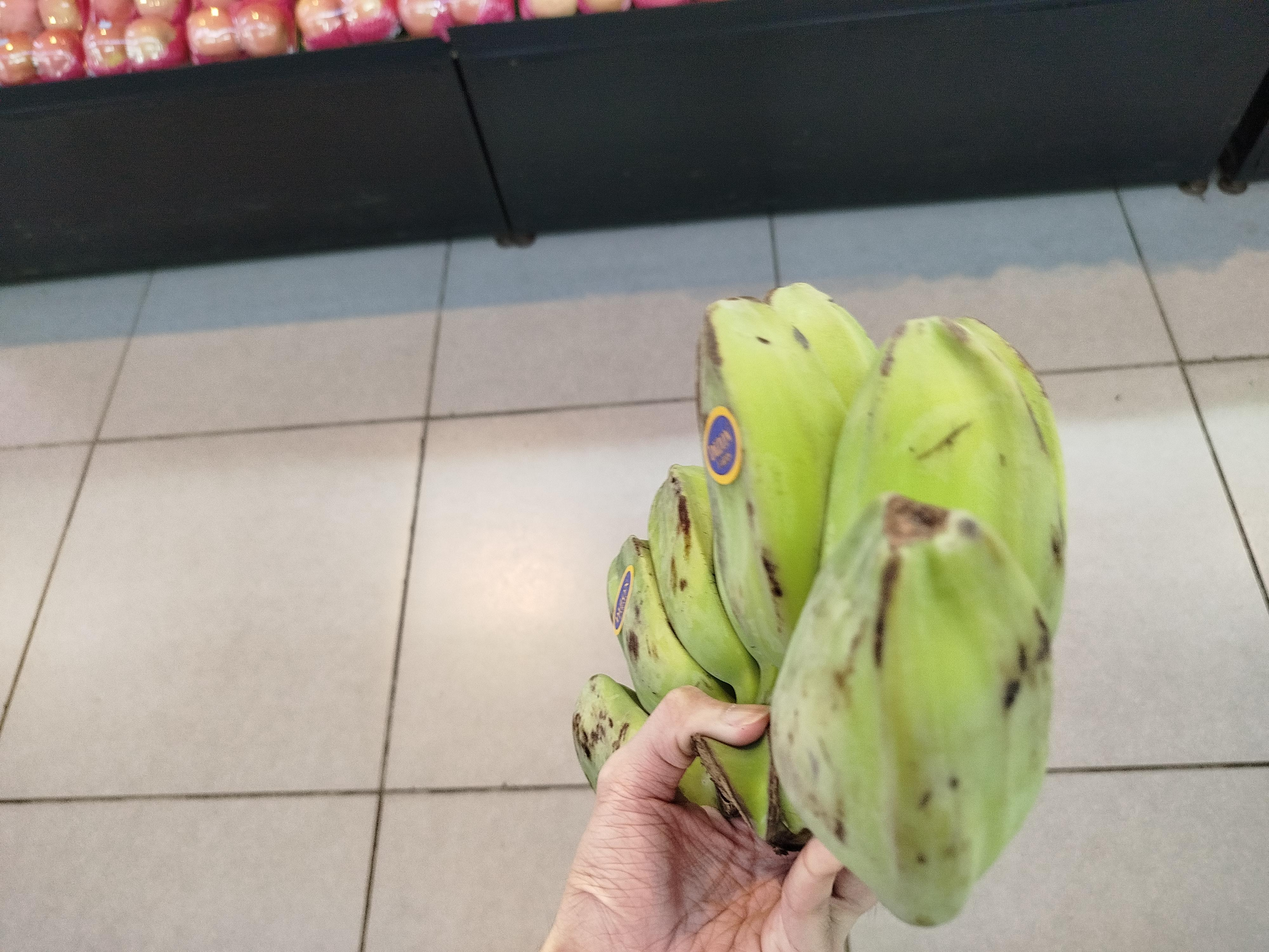underripe: (572, 284, 1066, 925)
